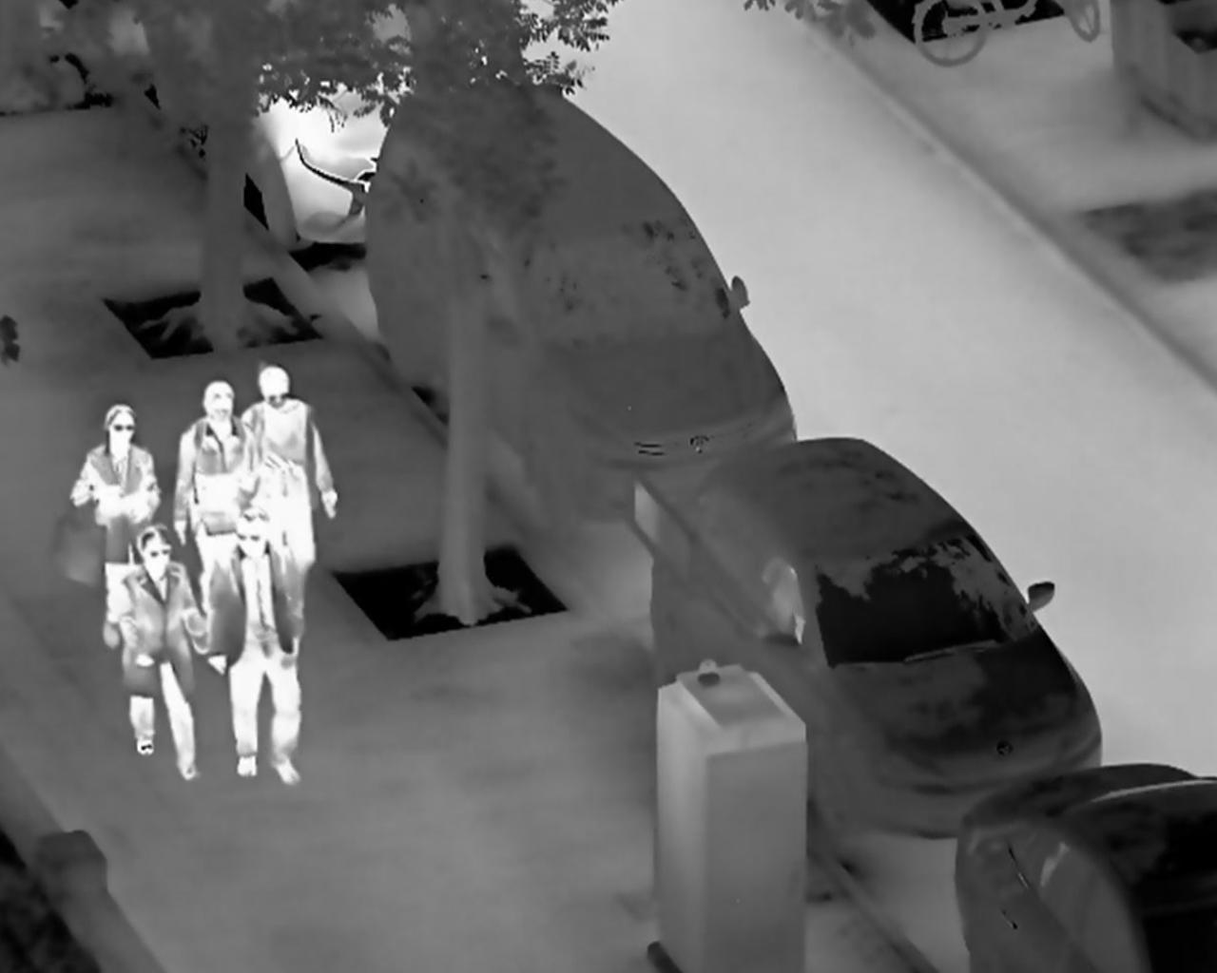person: (106, 526, 210, 785), (206, 508, 302, 788), (236, 361, 338, 624), (171, 379, 264, 595), (67, 404, 160, 591)
